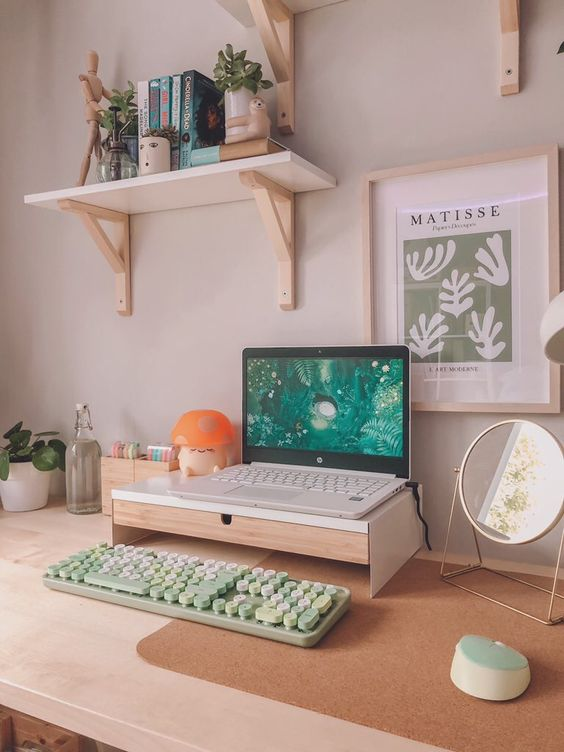No: (0, 0, 563, 444)
not a gesture sign: (0, 499, 438, 751)
